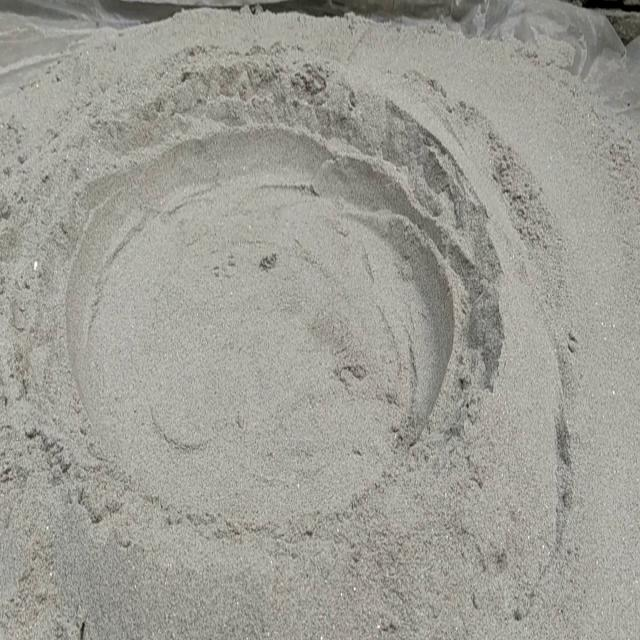C40: (77, 103, 477, 530)
